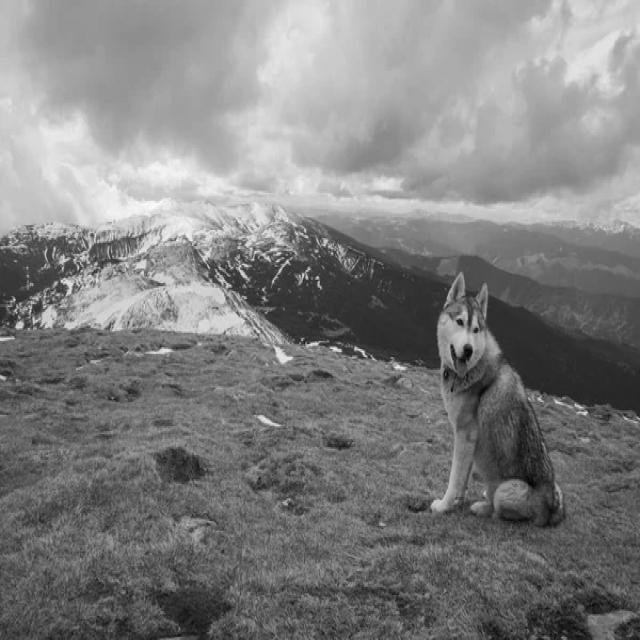Animal: (432, 273, 565, 527)
